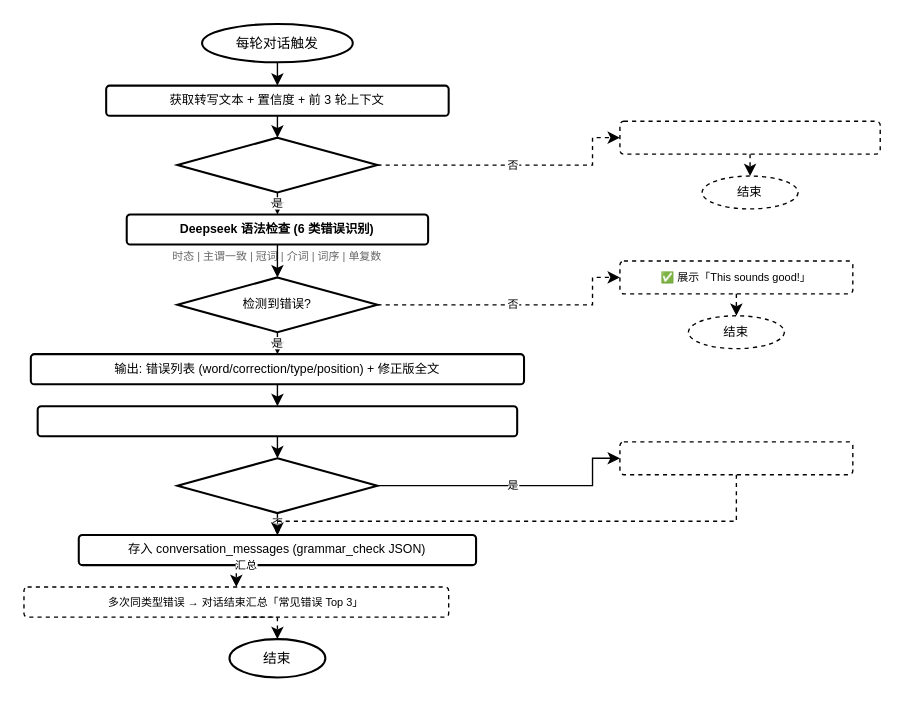
This 904x703 diagram has some shape labels left out. Each missing label, with the box of its shape:
文本 ≥ 3 词?: (176, 136, 378, 193)
标注「回复太短，建议展开表达」: (619, 120, 880, 154)
标记 polish_adopted=true: (619, 440, 853, 475)
润色建议 (礼貌升级/口语化/俚语/缩略/精简) 默认折叠: (36, 405, 518, 437)
用户采纳?: (176, 457, 378, 513)
